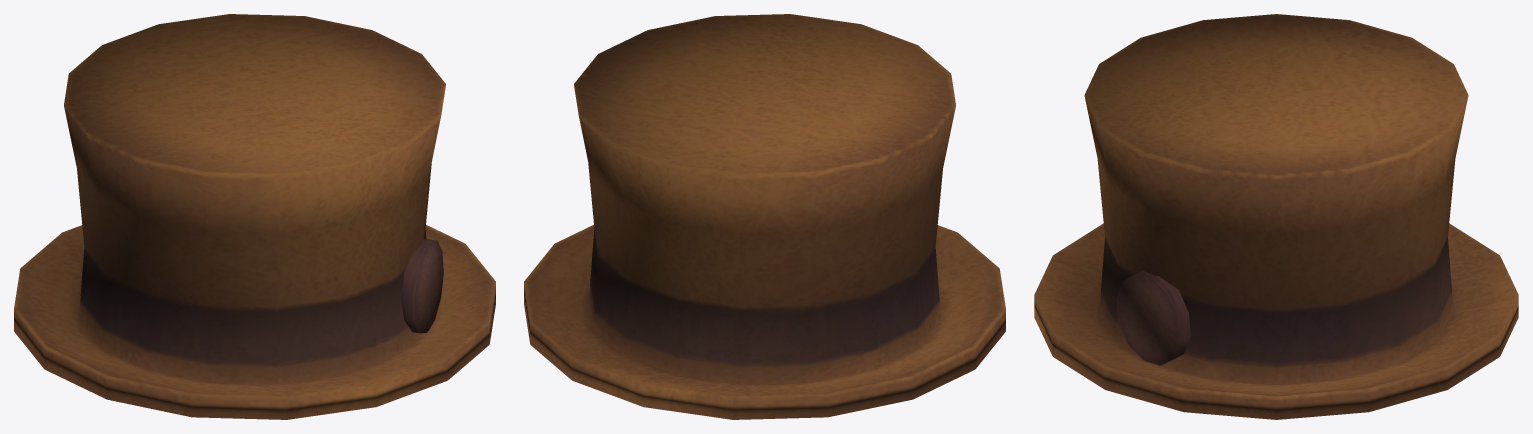
File: SM_MinihatA.glb
3 renders of one model, left to right at view 1: azimuth 30°, elevation 25°; view 2: azimuth 150°, elevation 25°; view 3: azimuth 270°, elevation 25°, orthographic.
Visible parts, largest first — view 1: SM_MinihatA; view 2: SM_MinihatA; view 3: SM_MinihatA.
Part boxes in pixels (box(x1,y1,x2,y2)): SM_MinihatA: box(14, 14, 495, 419); SM_MinihatA: box(524, 14, 1005, 419); SM_MinihatA: box(1034, 14, 1518, 419).
Bounding box in the file's own units: 0.4534 × 0.2426 × 0.4534.
Materials: 1 (1 with a texture image).
